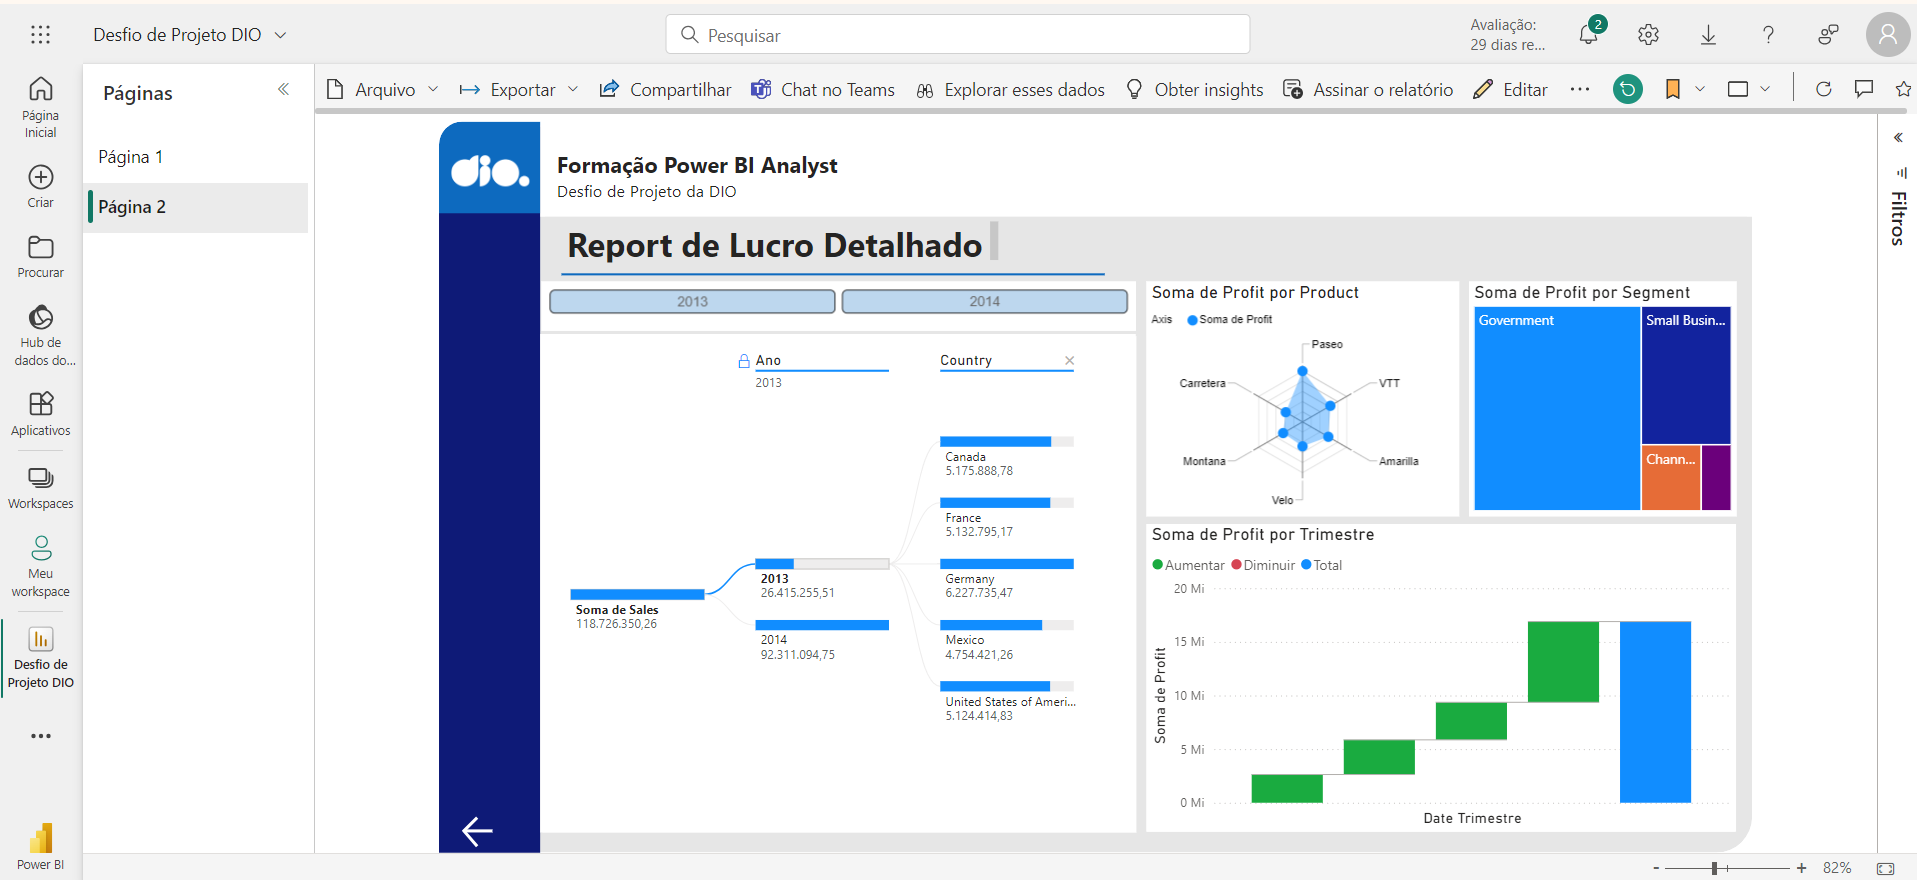

What the dashboard file says about the page in this screenshot:
{"tool":"powerbi","page":{"name":"Página 2","canvas":[1280,720],"ordinal":1},"visuals":[{"type":"shape","box":[17.4,12.4,1262.4,707.5],"z":0},{"type":"shape","box":[0,10.9,98.9,709.1],"z":1000},{"type":"shape","box":[0,7.7,98.9,89.9],"z":2000},{"type":"image","title":"logo_dio","box":[7.2,12.1,85.6,85.6],"z":3000},{"type":"shape","box":[98.9,10.9,1180.7,89.2],"z":4000},{"type":"textbox","box":[109.7,28.9,1169.8,62.7],"z":5000},{"type":"actionButton","box":[18,679.6,50.1,39.8],"z":6000},{"type":"shape","box":[119.5,150.3,529.3,12.8],"z":7000},{"type":"textbox","box":[119.5,100.2,430.4,50.1],"z":8000},{"type":"shape","box":[100.1,162.8,578.9,48.2],"z":9000},{"type":"shape","box":[101.3,214.7,577.7,484.8],"z":10000},{"type":"shape","box":[689.8,399.2,574.1,300.3],"z":11000},{"type":"shape","box":[689.8,162.8,303.9,229.1],"z":12000},{"type":"shape","box":[1003.4,162.8,260.5,229.1],"z":13000},{"type":"decompositionTreeVisual","fields":{"Analyze":["Sum(financials (3). Sales)"],"ExplainBy":["financials (3).Date.Variation.Hierarquia de datas.Ano","financials (3).Country"]},"box":[101.5,217.1,578.1,483],"z":14000},{"type":"actionButton","title":"Botão 2013","box":[109.2,172.1,274.9,32.1],"z":15000},{"type":"actionButton","title":"Botão 2014","box":[389.2,172.1,281.3,32.1],"z":16000},{"type":"RadarChart1446119667547","fields":{"Y":["Sum(financials (3).Profit)"],"Category":["financials (3).Product"]},"box":[689.8,163.1,304.5,228.7],"z":17000},{"type":"treemap","fields":{"Values":["Sum(financials (3).Profit)"],"Group":["financials (3).Segment"]},"box":[1003.3,163.1,260.8,228.7],"z":18000},{"type":"waterfallChart","fields":{"Y":["Sum(financials (3).Profit)"],"Category":["financials (3).Date.Variation.Hierarquia de datas.Trimestre"]},"box":[689.8,399.5,574.2,299.3],"z":19000},{"type":"decompositionTreeVisual","title":"Árvore hierárquica - 2014","fields":{"Analyze":["Sum(financials (3). Sales)"],"ExplainBy":["financials (3).Date.Variation.Hierarquia de datas.Ano","financials (3).Country"]},"box":[98.3,214,579.9,485.9],"z":21000},{"type":"ChicletSlicer1448559807354","fields":{"Category":["financials (3).Date.Variation.Hierarquia de datas.Ano"]},"box":[100.1,162.9,579.1,48.3],"z":22000}]}

Visuals, with their boxes on the page's 1280x720 design canvas (x1, y1, x2, y2). These are canvas units, not pixel positions in the 1917x880 screenshot, which may show the page scaled, cropped or inside an application window:
shape: (17,12,1280,720)
shape: (0,11,99,720)
shape: (0,8,99,98)
"logo_dio" image: (7,12,93,98)
shape: (99,11,1280,100)
textbox: (110,29,1280,92)
actionButton: (18,680,68,719)
shape: (120,150,649,163)
textbox: (120,100,550,150)
shape: (100,163,679,211)
shape: (101,215,679,700)
shape: (690,399,1264,700)
shape: (690,163,994,392)
shape: (1003,163,1264,392)
decompositionTreeVisual - Sum(financials (3). Sales) x financials (3).Date.Variation.Hierarquia de datas.Ano: (102,217,680,700)
"Botão 2013" actionButton: (109,172,384,204)
"Botão 2014" actionButton: (389,172,670,204)
RadarChart1446119667547 - Sum(financials (3).Profit) x financials (3).Product: (690,163,994,392)
treemap - Sum(financials (3).Profit) x financials (3).Segment: (1003,163,1264,392)
waterfallChart - Sum(financials (3).Profit) x financials (3).Date.Variation.Hierarquia de datas.Trimestre: (690,400,1264,699)
"Árvore hierárquica - 2014" decompositionTreeVisual: (98,214,678,700)
ChicletSlicer1448559807354 - financials (3).Date.Variation.Hierarquia de datas.Ano: (100,163,679,211)
